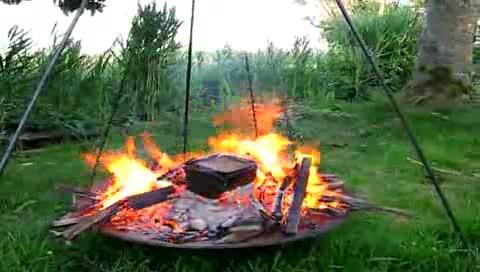fire: (217, 134, 327, 214), (104, 152, 166, 220)
